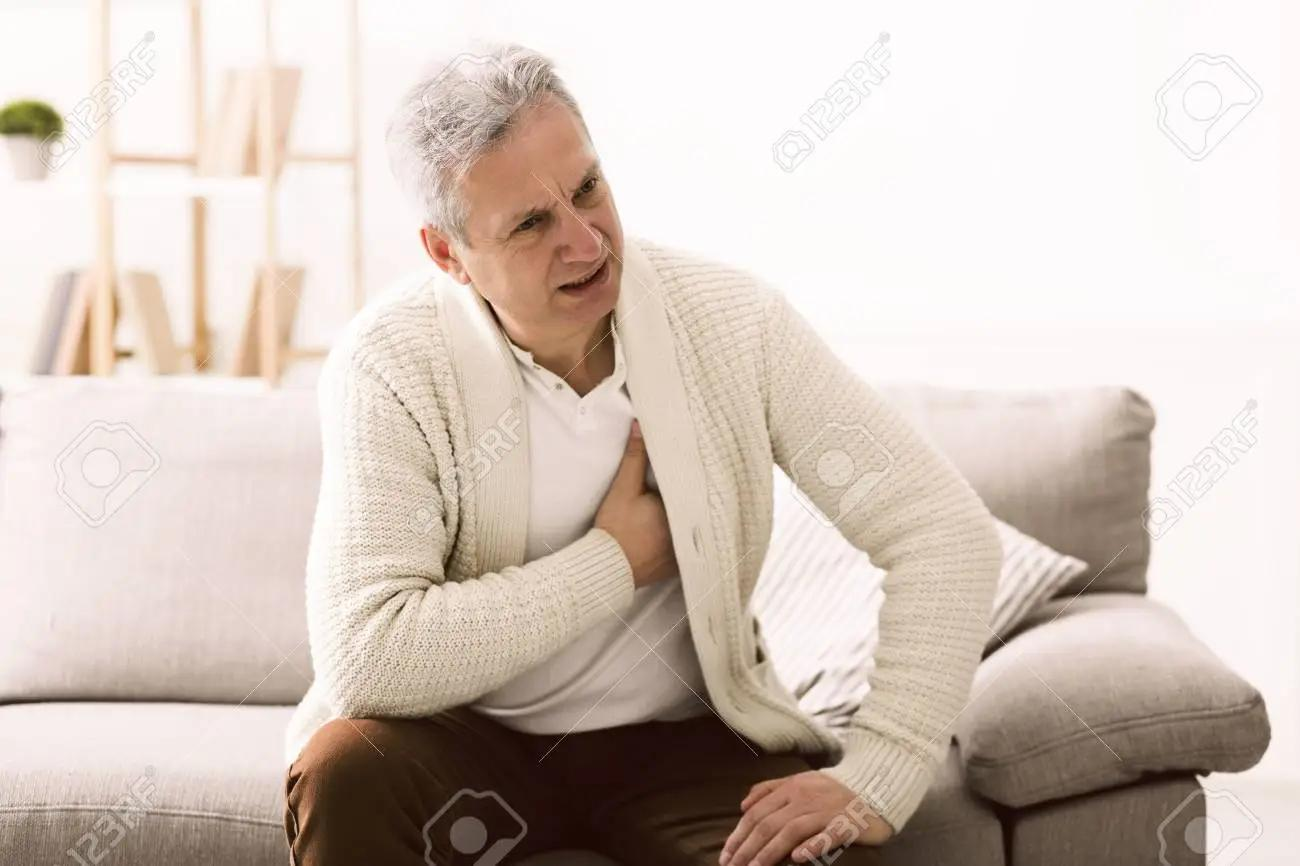pain: (485, 158, 613, 248)
